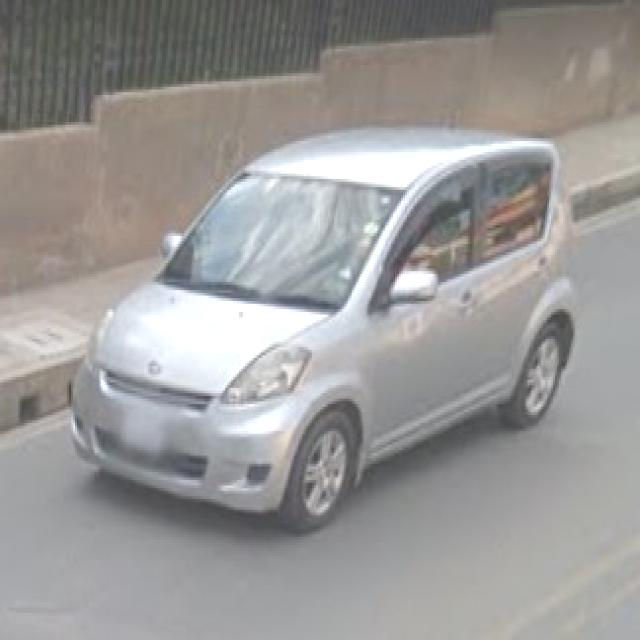car: (97, 140, 576, 533)
